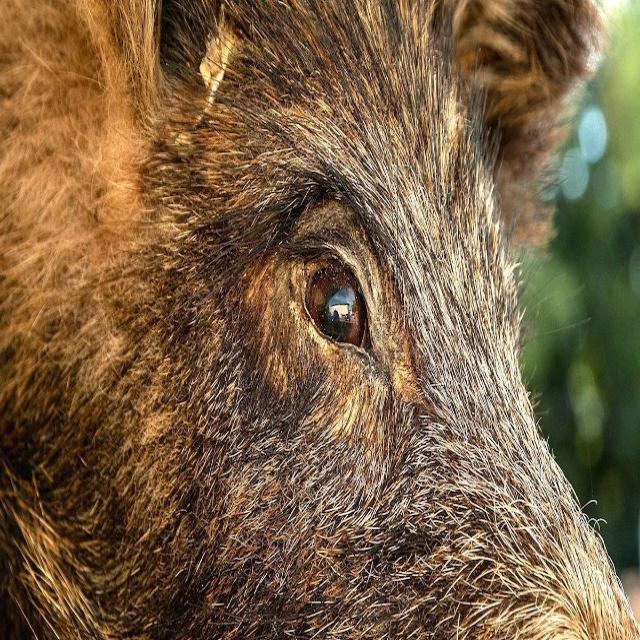Boar: (0, 1, 637, 640)
